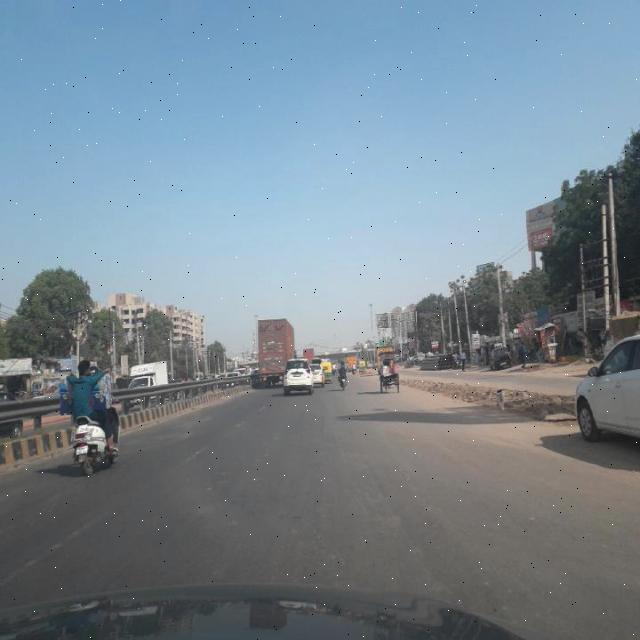D44: (4, 492, 126, 582), (164, 425, 223, 476)
